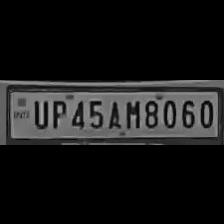0: (197, 96, 215, 127), (161, 95, 177, 127)
4: (67, 96, 85, 128)
5: (86, 96, 104, 128)
6: (178, 95, 196, 127)
8: (141, 95, 159, 127)
A: (104, 96, 122, 130)
M: (123, 96, 141, 128)
P: (48, 96, 66, 128)
U: (29, 96, 48, 128)
